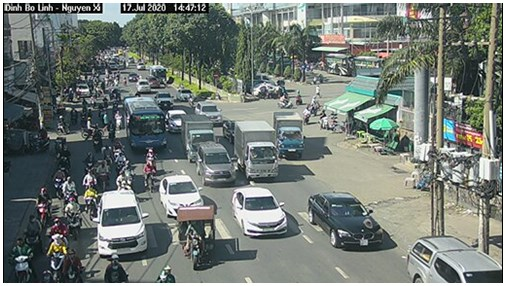xe_ba_gac: (172, 201, 217, 269)
xe_buyt: (122, 97, 169, 151), (148, 64, 168, 83)
xe_hoi: (402, 231, 500, 283), (304, 191, 383, 251), (93, 188, 149, 260), (231, 187, 290, 241), (157, 172, 208, 219), (194, 143, 238, 189), (194, 100, 224, 127), (167, 110, 192, 135), (172, 85, 193, 105), (154, 91, 174, 111), (135, 76, 153, 94), (76, 83, 91, 98)
xe_may: (9, 237, 31, 283), (34, 185, 58, 225), (47, 235, 66, 280), (65, 195, 83, 240), (103, 253, 128, 283), (62, 246, 82, 282), (91, 156, 111, 190), (50, 162, 68, 199), (45, 215, 68, 243), (25, 214, 43, 248), (61, 173, 78, 208), (111, 166, 134, 190), (82, 182, 97, 218), (141, 155, 156, 190), (56, 144, 73, 174), (80, 116, 102, 138), (155, 264, 176, 283), (84, 148, 97, 177), (82, 167, 97, 192), (55, 115, 71, 137), (93, 95, 109, 117), (277, 90, 292, 111), (109, 137, 128, 153), (115, 150, 127, 175), (92, 126, 102, 152), (114, 107, 124, 131), (70, 106, 81, 126), (295, 84, 304, 108)
xe_tai: (232, 120, 279, 183), (272, 110, 307, 161)
